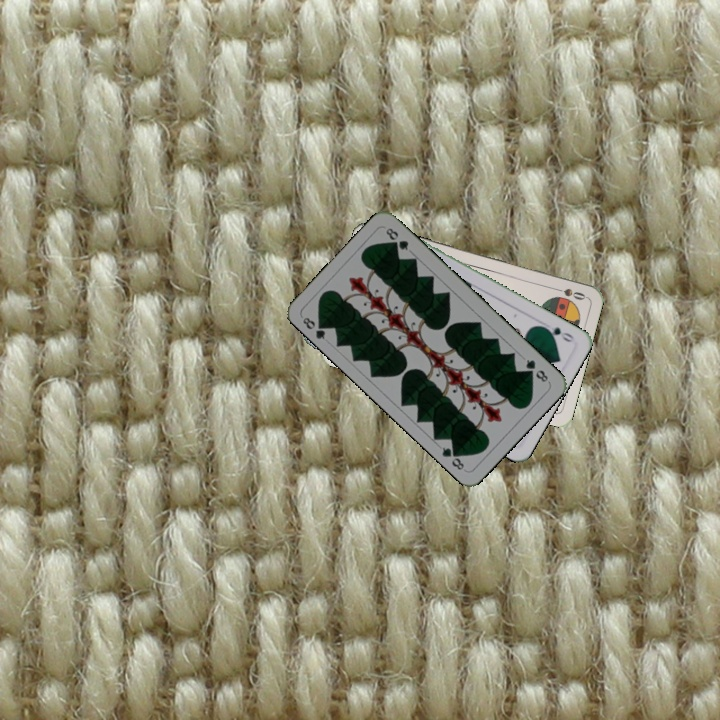G8: (521, 355, 551, 385), (299, 313, 330, 342)
GO: (538, 322, 577, 345)
SO: (548, 283, 588, 303)
